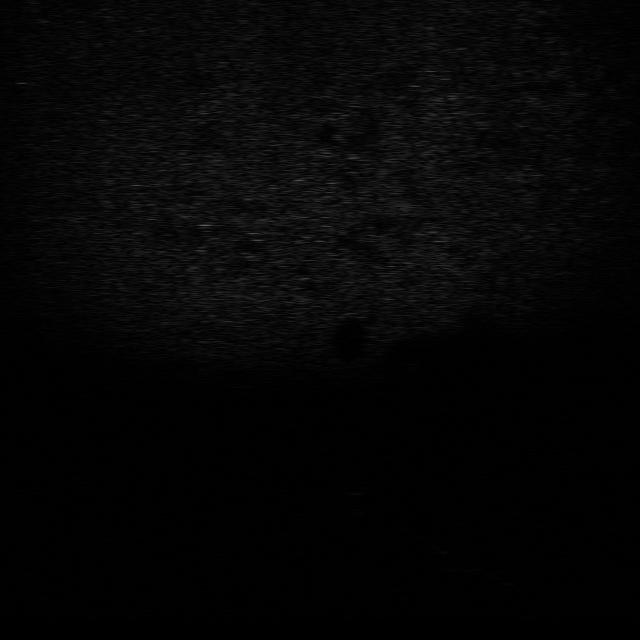ball: (338, 475, 370, 499)
metal bucket: (444, 562, 514, 588)
tyre: (392, 520, 452, 560)
